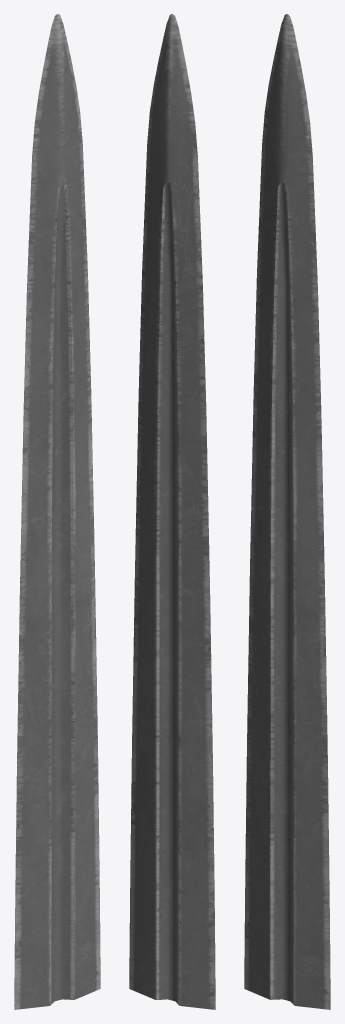
Rendered from wm_pelagir_sword_a01_blade.fbx.
The picture shows the model from 3 angles, left to right: view 1: azimuth 30°, elevation 25°; view 2: azimuth 150°, elevation 25°; view 3: azimuth 330°, elevation 25°; orthographic projection.
Visible parts, largest first — view 1: wm_pelagir_sword_a01_blade; view 2: wm_pelagir_sword_a01_blade; view 3: wm_pelagir_sword_a01_blade.
Boxes of the visible parts, <box> form: wm_pelagir_sword_a01_blade: <box>14,14,100,1009</box>; wm_pelagir_sword_a01_blade: <box>129,14,215,1009</box>; wm_pelagir_sword_a01_blade: <box>244,14,330,1009</box>.
Size of the model in its own units: 0.0633 by 0.0129 by 0.6885.
Materials: 1 (1 with a texture image).
